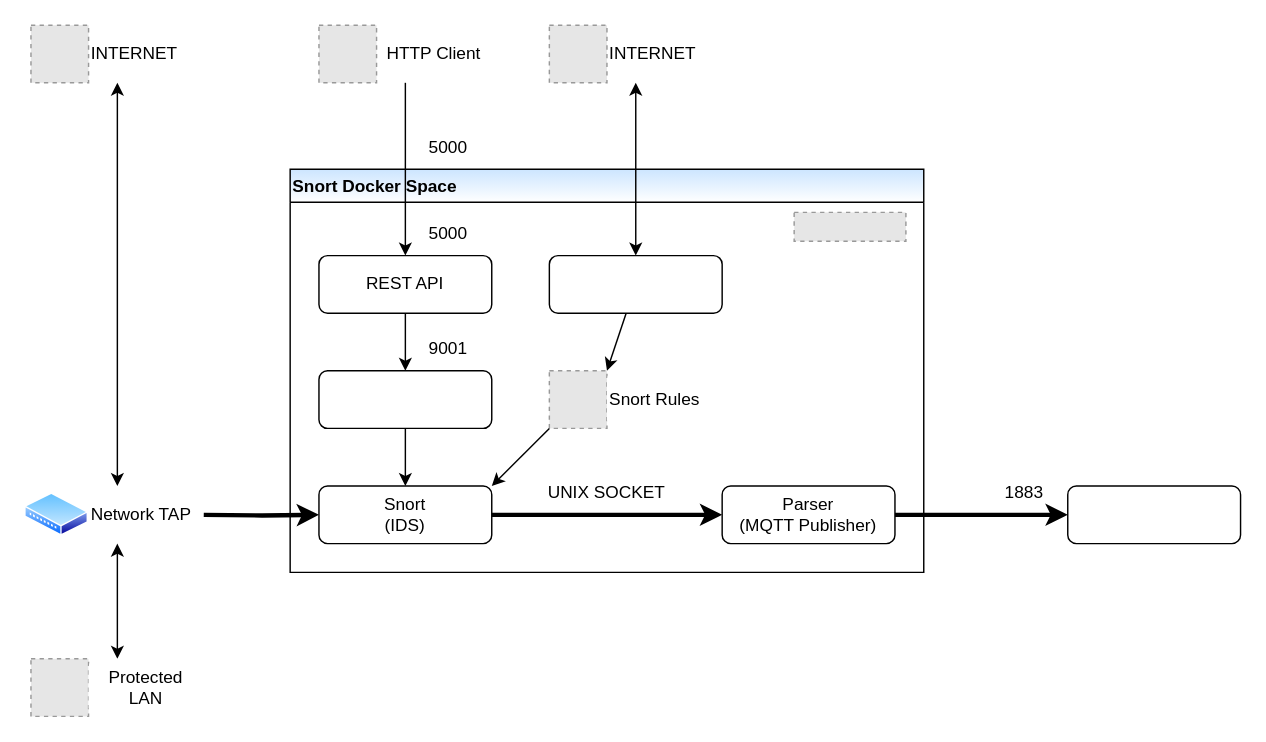
The diagram is 1266 pixels wide and 742 high, and some of its shapes have lost their labels. Grey dashed boxes stand in for pictures. Here are the shapes that lost their labels. From the top down, the box of each, then its label:
(548, 254, 722, 313): pulledpork
(318, 369, 492, 428): Supervisor
(1066, 485, 1241, 544): Mosquitto (MQTT Broker)
